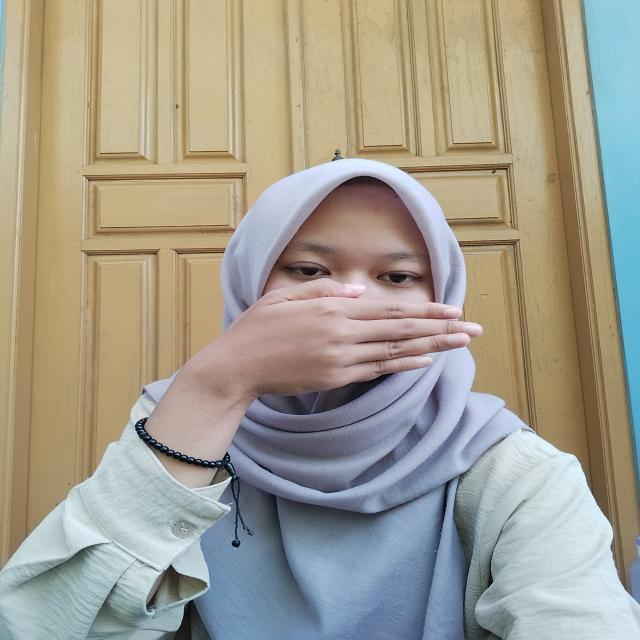buruk: (181, 277, 487, 401)
